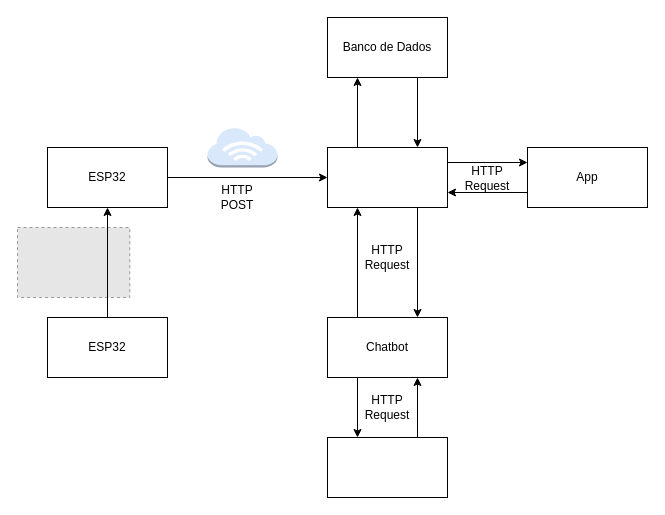
The diagram is 665 pixels wide and 515 high, and some of its shapes have lost their labels. Grey dashed boxes stand in for pictures. The centre of each missing label's shape, as x and y in pixels:
API: point (387, 177)
Telegram: point (387, 467)
